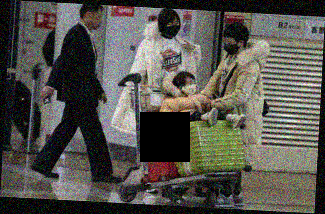with_mask: (222, 37, 240, 56), (165, 20, 181, 38), (182, 79, 198, 96)
without_mask: (90, 11, 104, 31)
